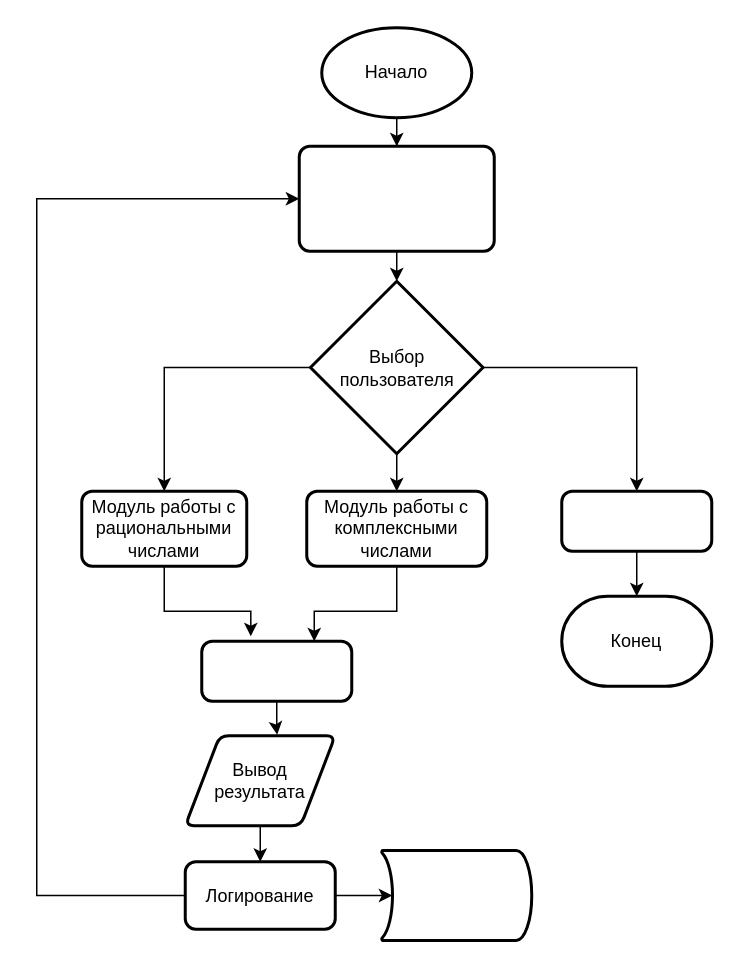
Image size: 740x968. Some labels were removed from this diagram. Each missing label, with the centre of its shape:
"Выводить меню выбора операций" belongs at (x=396, y=198).
"Выход из программы" belongs at (x=636, y=520).
"Модуль вычисления" belongs at (x=276, y=670).
"Файл логирования" belongs at (x=456, y=894).
